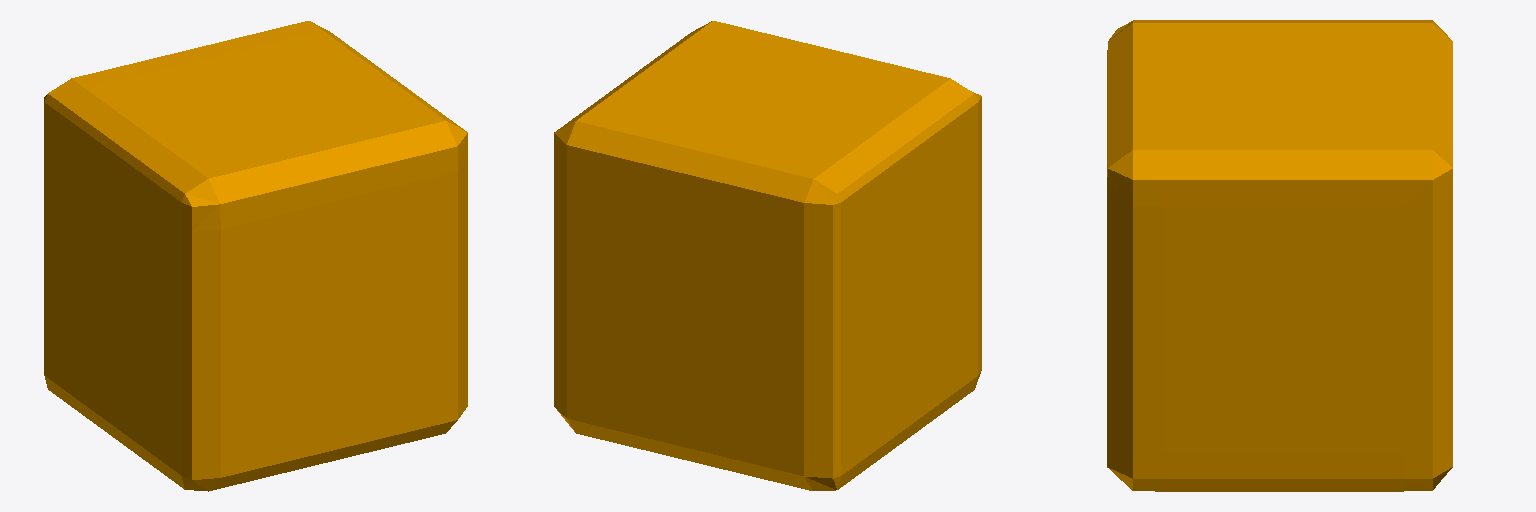
robot.urdf — cylinder_box_42:
<?xml version="1.0" encoding="utf-8"?>  <robot name="cylinder_box_42">   <link name="cylinder_box_42">     <visual>       <geometry>         <mesh filename="../meshes/box/box_42.stl" scale="1 1 1"/>       </geometry>     </visual>     <collision>       <geometry>         <mesh filename="../meshes/box/box_42.stl" scale="1 1 1"/>       </geometry>     </collision>     <inertial>        <origin         xyz="0 0 0"         rpy="0 0 0" />       <mass value="0.21454343417322738"/>       <origin rpy="0 0 0" xyz="0 0 0"/>       <inertia ixx="0.0001268551396033988" ixy="-8.678627532398806e-08" ixz="-1.2146388073853083e-07" iyy="0.00013243221952449755" iyz="-2.0885475870960586e-08" izz="0.00012145316151657773"/>     </inertial>   </link>  </robot>

--- Facts derived from the render (not from the file) ---
3 views of the same robot in one strip: view 1: azimuth 30°, elevation 25°; view 2: azimuth 150°, elevation 25°; view 3: azimuth 270°, elevation 25° (orthographic).
Model cylinder_box_42 with 1 links and 0 joints (none), rooted at cylinder_box_42, posed every joint at zero.
Links seen in each view (by area): view 1: cylinder_box_42; view 2: cylinder_box_42; view 3: cylinder_box_42.
Boxes of the visible links, box(x1,y1,x2,y2) form: cylinder_box_42: box(44, 21, 467, 491); cylinder_box_42: box(554, 21, 981, 490); cylinder_box_42: box(1107, 20, 1452, 491).
Bounding box of the posed robot: 0.0604 × 0.0578 × 0.063 m (x, y, z).
Meshes: 1 distinct files referenced, 1 mesh visuals loaded (1 binary STL).